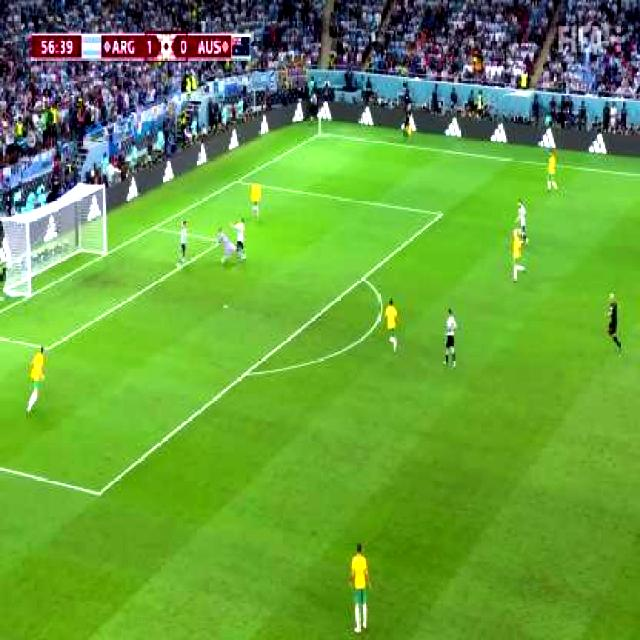bigarea_bottom_inner: (90, 483, 108, 505)
bigarea_top_inner: (434, 206, 448, 223)
bigarea_top_outter: (230, 176, 244, 190)
bottom_arc_area_intersection: (241, 366, 254, 383)
corner: (316, 129, 326, 137)
smallarea_bottom_inner: (45, 343, 52, 355)
smallarea_top_outter: (149, 223, 160, 234)
top_arc_area_intersection: (357, 271, 369, 286)
